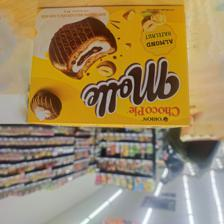Molle: (26, 4, 193, 134)
